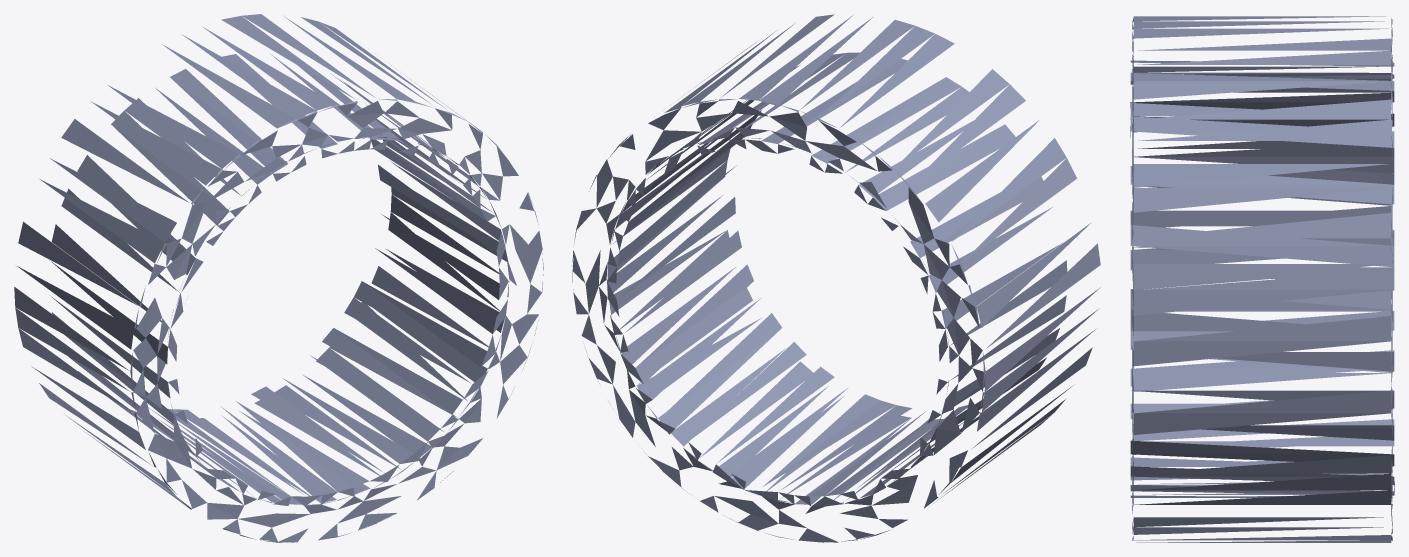
File: tape_clear_a02.glb
3 views of the same model, side by side, from view 1: azimuth 30°, elevation 25°; view 2: azimuth 150°, elevation 25°; view 3: azimuth 270°, elevation 25° (orthographic). The views are drawn at different scales.
Visible parts, largest first — view 1: geometry_0; view 2: geometry_0; view 3: geometry_0.
Part boxes in pixels (<box>): geometry_0: <box>14,14,543,542</box>; geometry_0: <box>572,14,1100,542</box>; geometry_0: <box>1130,16,1394,542</box>.
Size of the model in its own units: 0.48 by 0.48 by 0.24.
